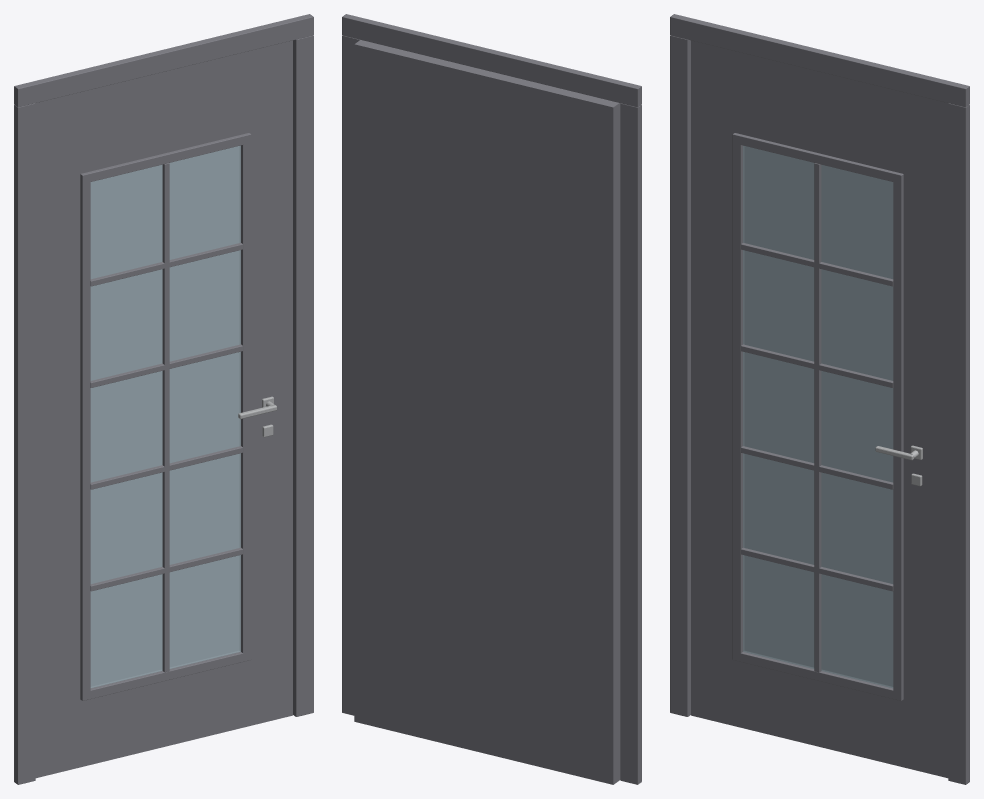
The model's file is clodis_door_glass_1788976945862.glb.
The picture shows the model from 3 angles, left to right: view 1: azimuth 30°, elevation 25°; view 2: azimuth 150°, elevation 25°; view 3: azimuth 330°, elevation 25°; orthographic projection.
Visible parts, largest first — view 1: DoorLeaf, GlassPanel, Casing, GlassFrame_Left, GlassFrame_Right, GlassGrid_Vertical, GlassFrame_Bottom, GlassFrame_Top, GlassGrid_H_4, GlassGrid_H_3, GlassGrid_H_1, GlassGrid_H_2; view 2: DoorLeaf, Casing; view 3: DoorLeaf, GlassPanel, Casing, GlassFrame_Left, GlassFrame_Right, GlassGrid_Vertical, GlassFrame_Bottom, GlassFrame_Top, GlassGrid_H_1, GlassGrid_H_4, GlassGrid_H_2, GlassGrid_H_3.
Part boxes in pixels (box(x1,y1,x2,y2)): DoorLeaf: box(35, 40, 292, 778); GlassPanel: box(90, 145, 240, 688); Casing: box(14, 14, 313, 784); GlassFrame_Left: box(80, 172, 90, 700); GlassFrame_Right: box(241, 133, 251, 661); GlassGrid_Vertical: box(162, 163, 169, 672); GlassFrame_Bottom: box(80, 652, 250, 700); GlassFrame_Top: box(80, 135, 245, 182); GlassGrid_H_4: box(90, 242, 242, 286); GlassGrid_H_3: box(90, 344, 242, 387); GlassGrid_H_1: box(90, 547, 242, 591); GlassGrid_H_2: box(90, 446, 242, 489); DoorLeaf: box(354, 40, 620, 784); Casing: box(342, 14, 641, 784); DoorLeaf: box(691, 40, 948, 778); GlassPanel: box(743, 145, 893, 688); Casing: box(670, 14, 969, 784); GlassFrame_Left: box(732, 133, 742, 661); GlassFrame_Right: box(893, 172, 903, 700); GlassGrid_Vertical: box(814, 163, 821, 672); GlassFrame_Bottom: box(732, 652, 903, 700); GlassFrame_Top: box(732, 135, 903, 183); GlassGrid_H_1: box(741, 547, 893, 591); GlassGrid_H_4: box(741, 242, 893, 286); GlassGrid_H_2: box(741, 446, 893, 489); GlassGrid_H_3: box(741, 344, 893, 387).
Bounding box in the file's own units: 0.914 × 2.05 × 0.1.
